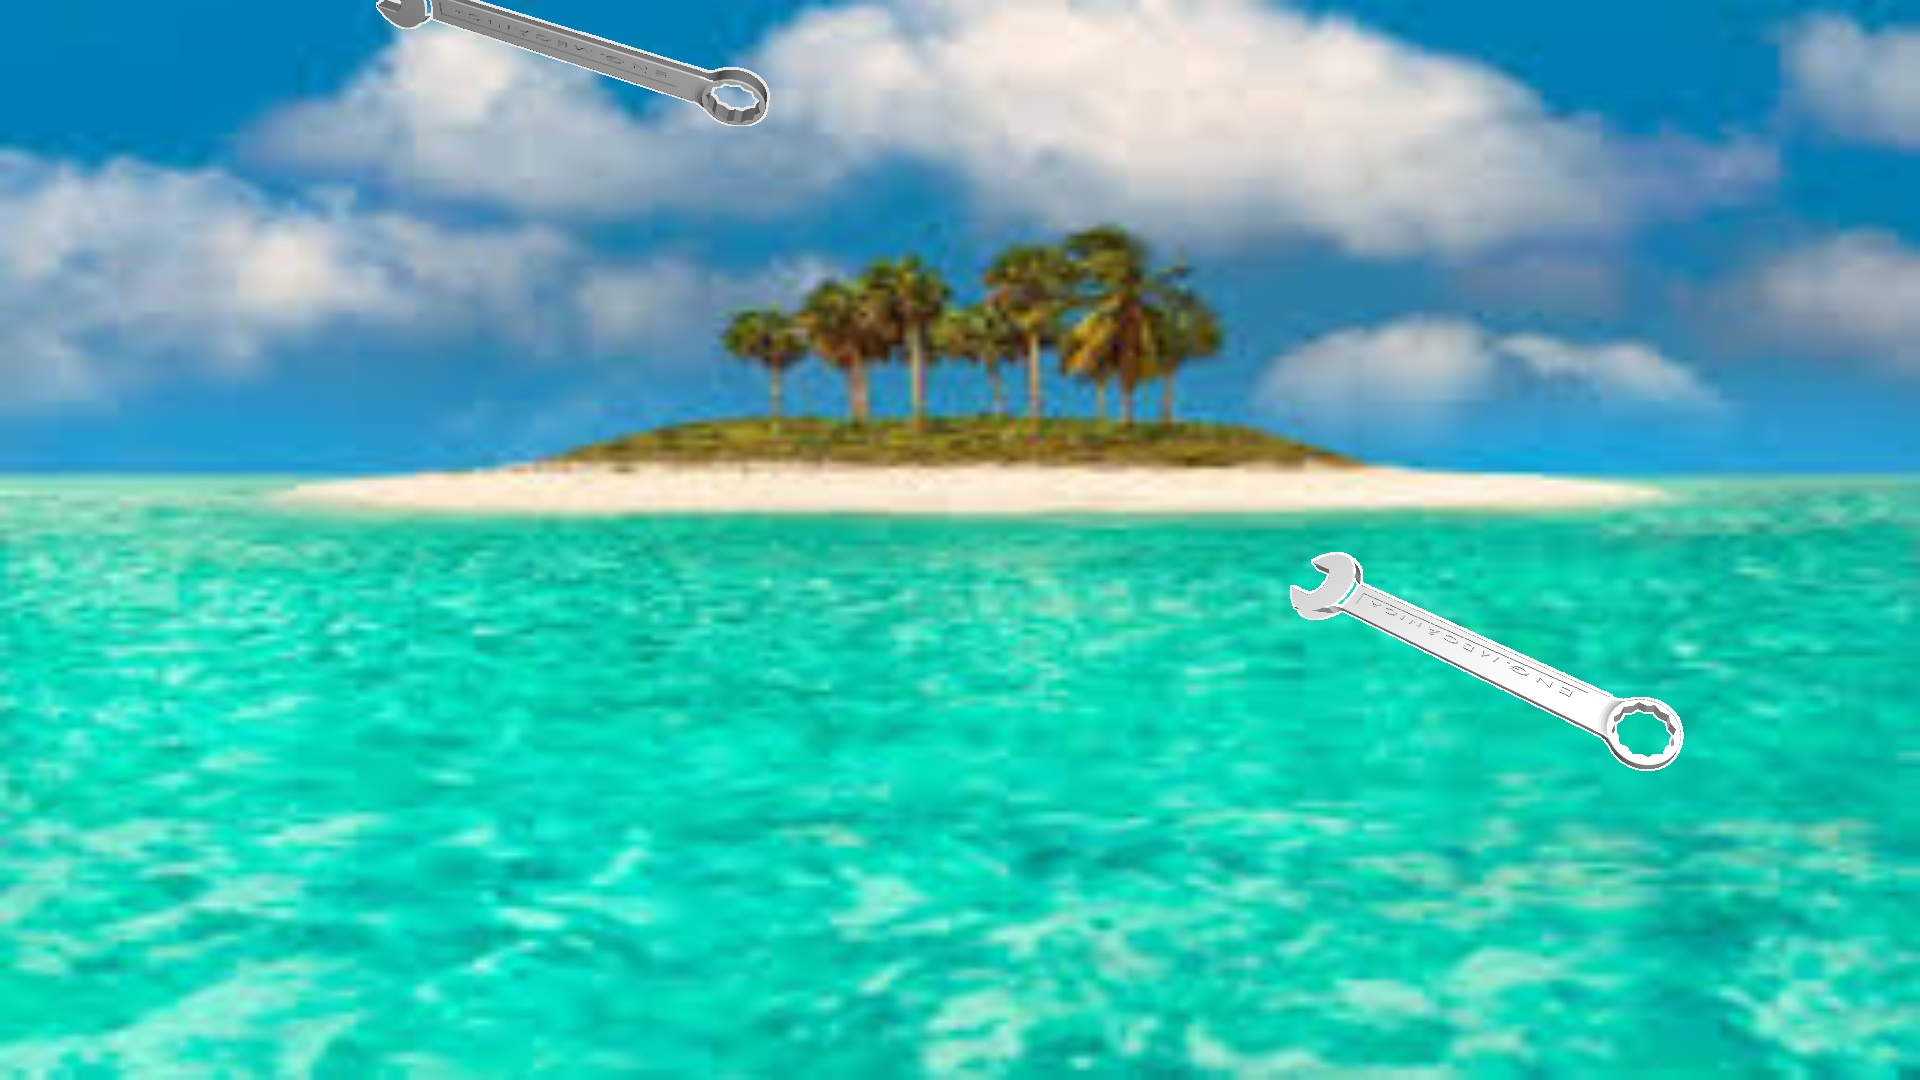Mixed Key: (1290, 553, 1683, 770), (376, 0, 769, 125)
